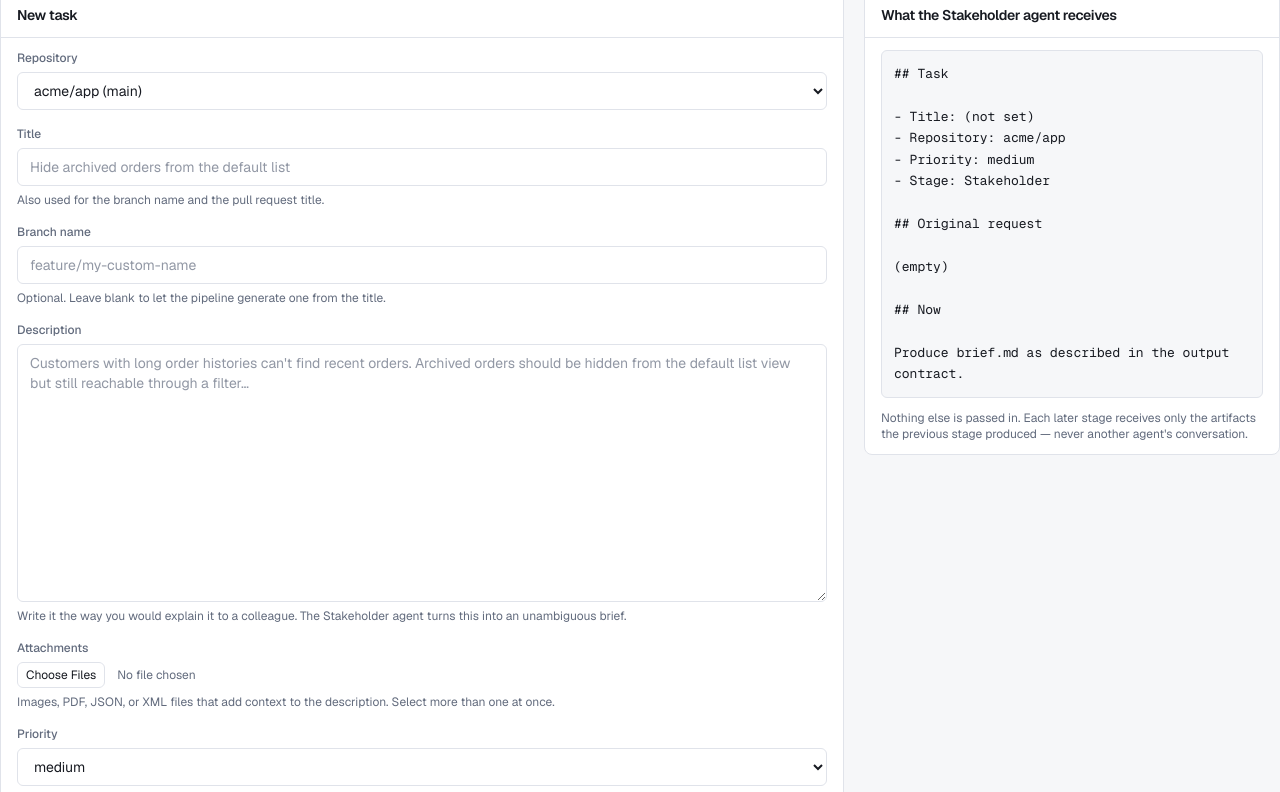
NewTaskForm dependency multi-select — scoped to the selected repository › explains an empty picker rather than hiding the field
Select "acme/other (main)" in the dropdown labelled "Repository" at (422, 91), box x1=17 y1=72 x2=827 y2=110
(page scrolled)
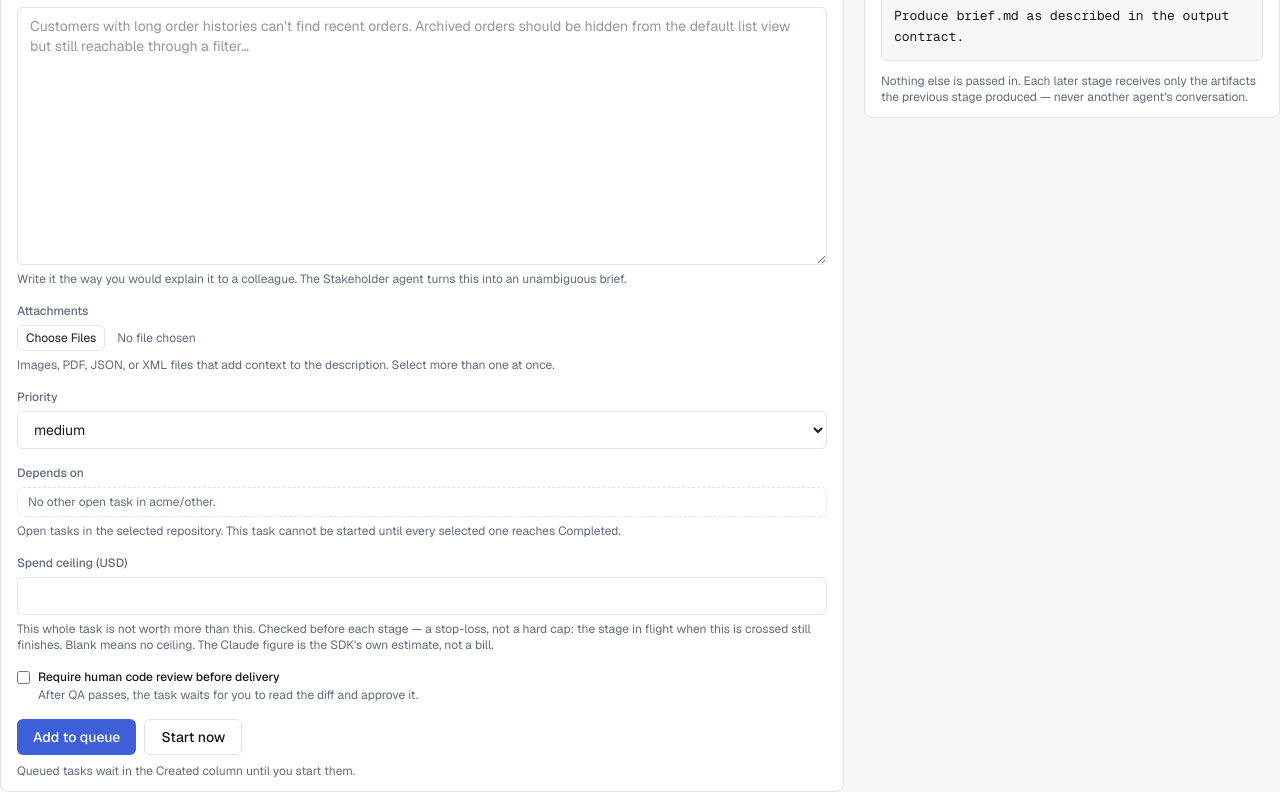
Expected: the text "Depends on" is shown, x1=17 y1=465 x2=84 y2=481
Result: the text "No other open task in acme/other." is shown at x1=17 y1=487 x2=827 y2=517
